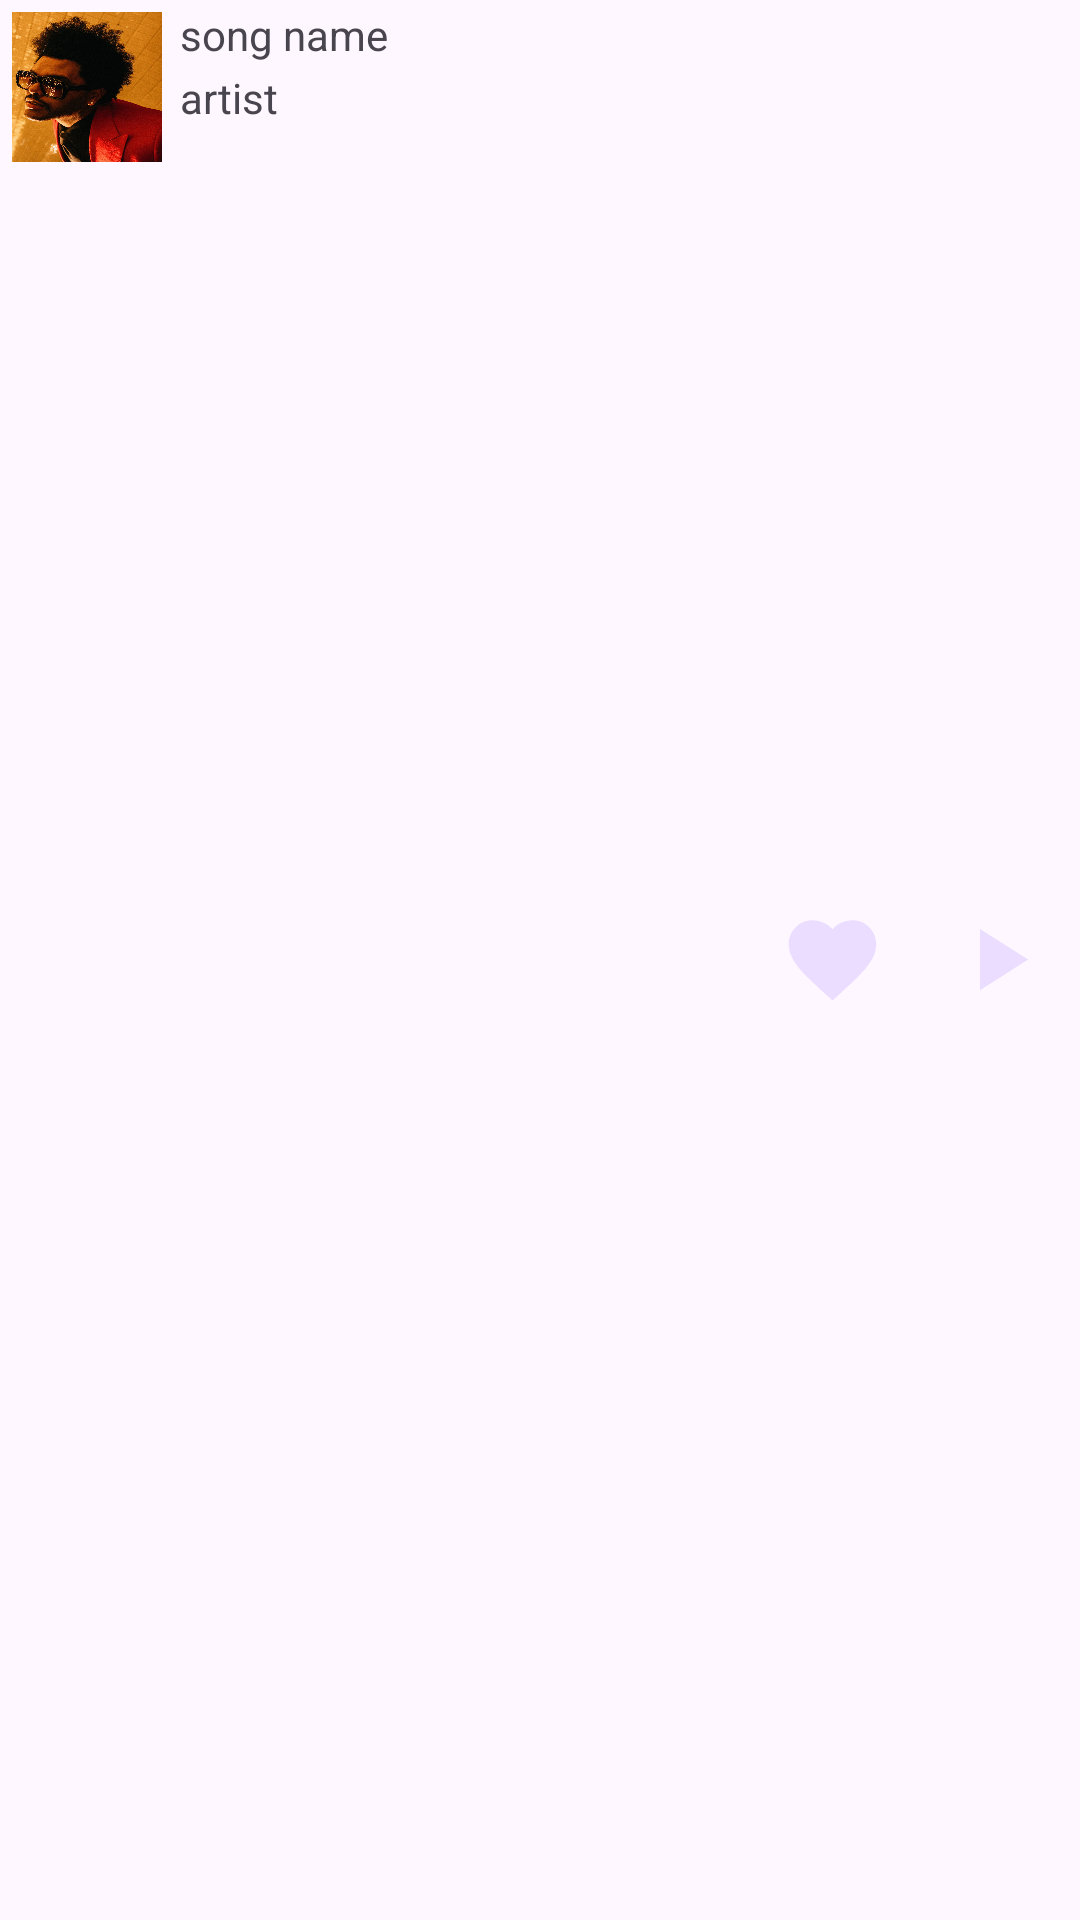

Icons on this 1080 x 1920 Android screen, each with its box as Rect(x1, y1, x2, y2):
favorite: Rect(789, 921, 876, 1000)
play arrow: Rect(980, 930, 1027, 989)
